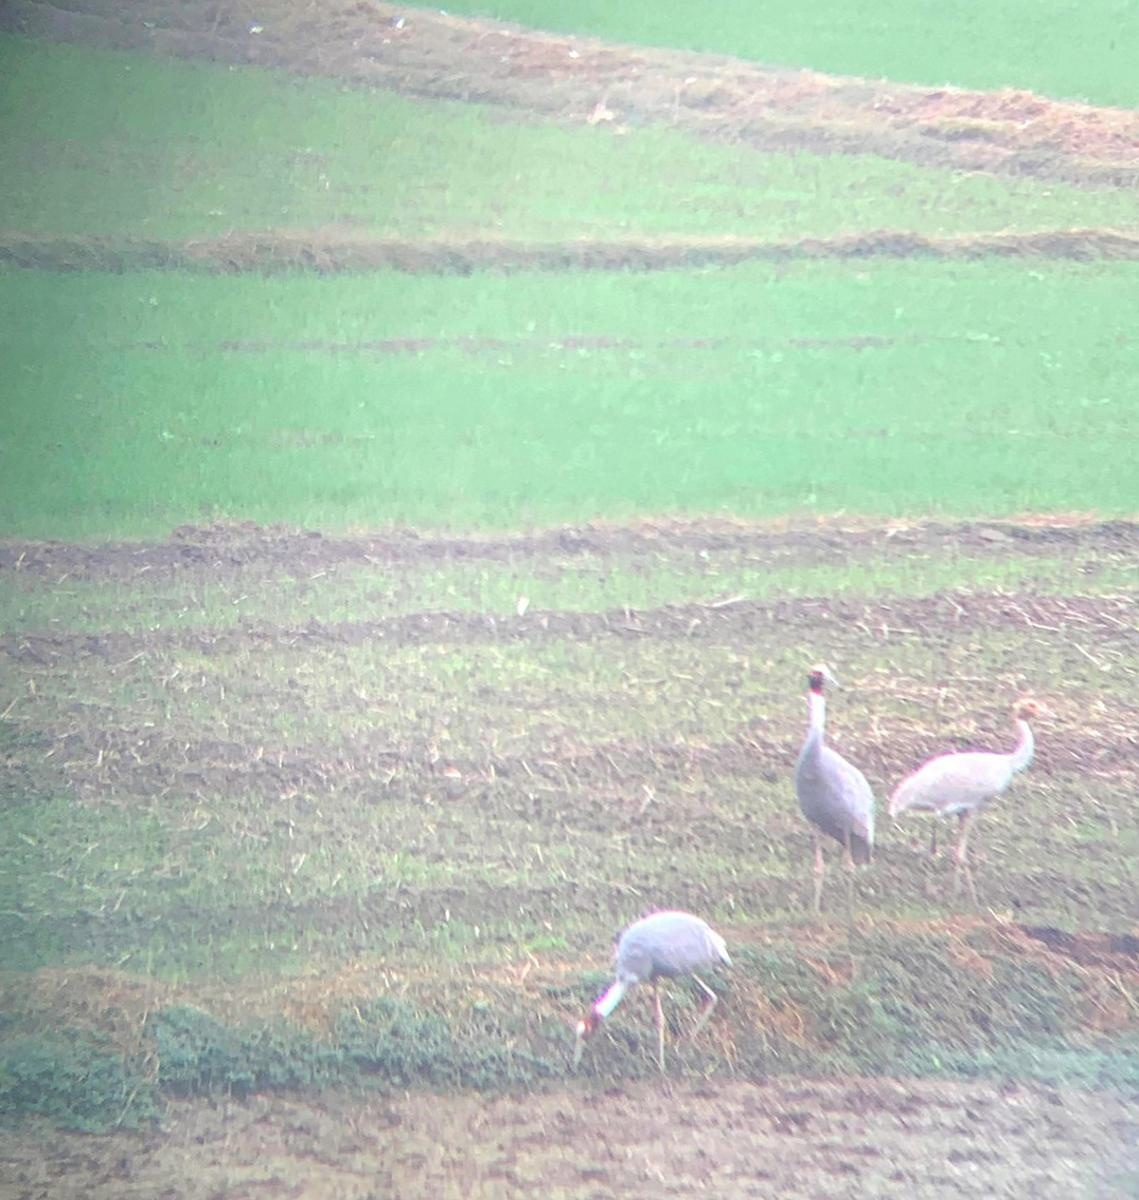crane: (563, 908, 740, 1087), (893, 685, 1045, 888), (790, 662, 886, 927)
